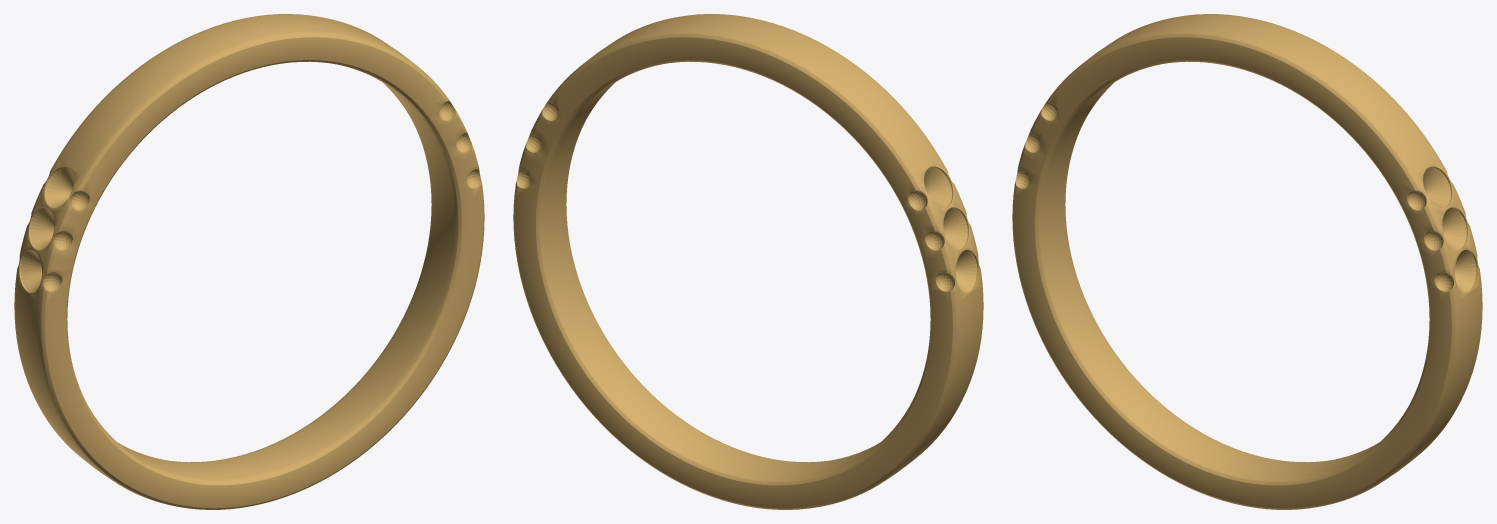
Rendered from soft-square-scalloped-u-cut-wide.glb.
The picture shows the model from 3 angles, left to right: view 1: azimuth 30°, elevation 25°; view 2: azimuth 150°, elevation 25°; view 3: azimuth 330°, elevation 25°; orthographic projection.
Visible parts, largest first — view 1: Band; view 2: Band; view 3: Band.
Part boxes in pixels (x1=…): Band: x1=14, y1=14, x2=484, y2=509; Band: x1=513, y1=14, x2=983, y2=509; Band: x1=1012, y1=14, x2=1482, y2=509.
Size of the model in its own units: 19.6 by 19.6 by 2.3.
